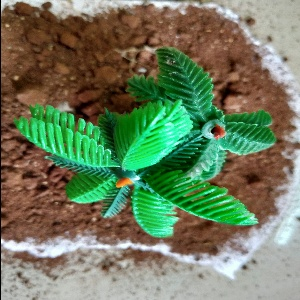plant: (17, 50, 278, 239)
